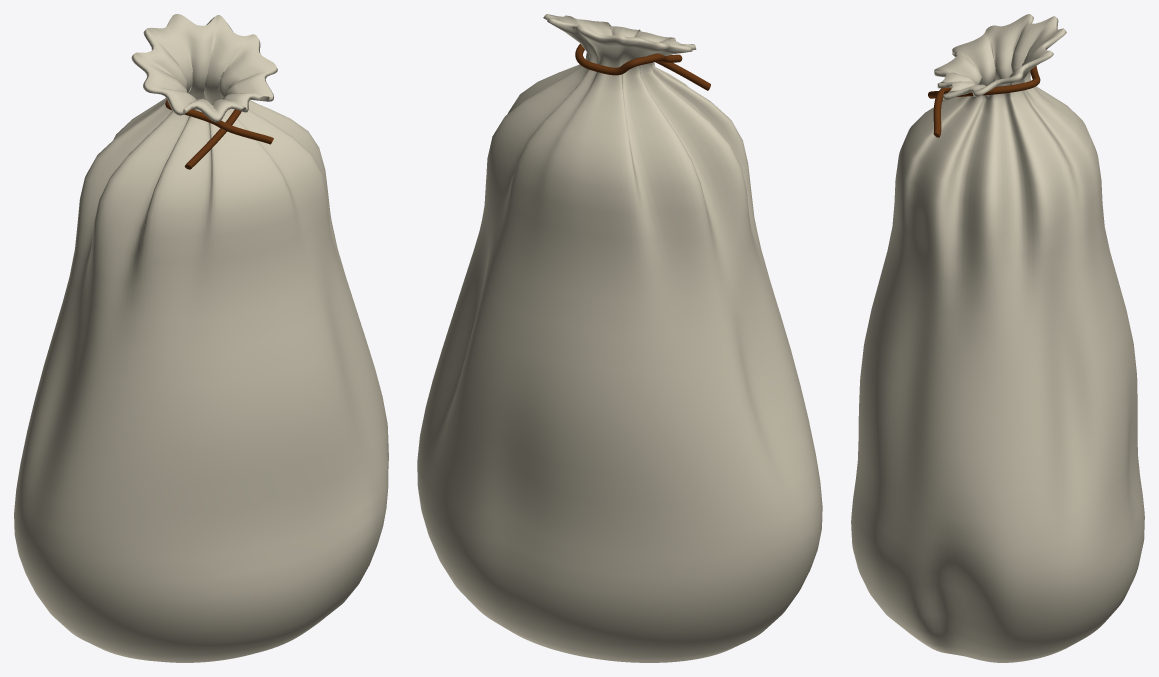
Rendered from costal3.fbx.
3 renders of one model, left to right at view 1: azimuth 30°, elevation 25°; view 2: azimuth 150°, elevation 25°; view 3: azimuth 270°, elevation 25°, orthographic. The views are drawn at different scales.
Visible parts, largest first — view 1: Circle, BezierCurve; view 2: Circle, BezierCurve; view 3: Circle, BezierCurve.
Boxes of the visible parts, x1,y1,x2,y2 form: Circle: [14, 14, 388, 662]; BezierCurve: [165, 99, 273, 169]; Circle: [417, 14, 822, 662]; BezierCurve: [575, 44, 710, 90]; Circle: [851, 14, 1144, 662]; BezierCurve: [928, 66, 1040, 137].
Bounding box in the file's own units: 358 × 583 × 257.
2 materials, 1 textured.
